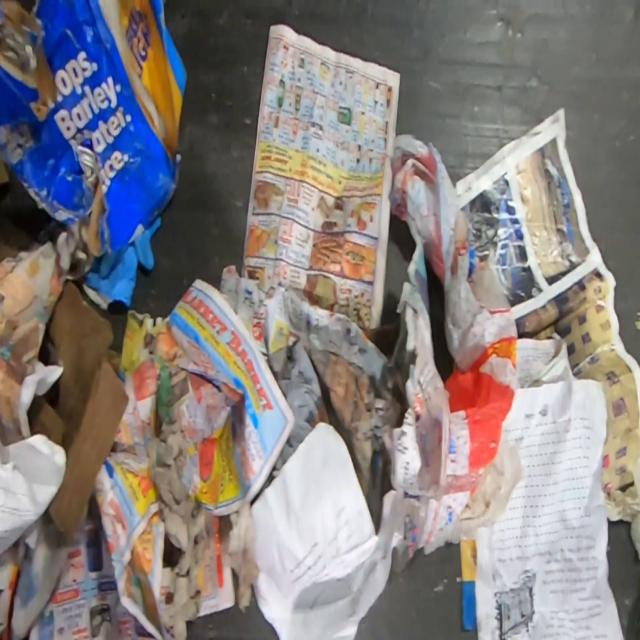cardboard: (27, 280, 129, 535)
soft_plastic: (389, 132, 518, 573)
